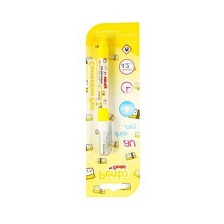book: (82, 19, 142, 201)
correction_fluid: (94, 38, 113, 157)
